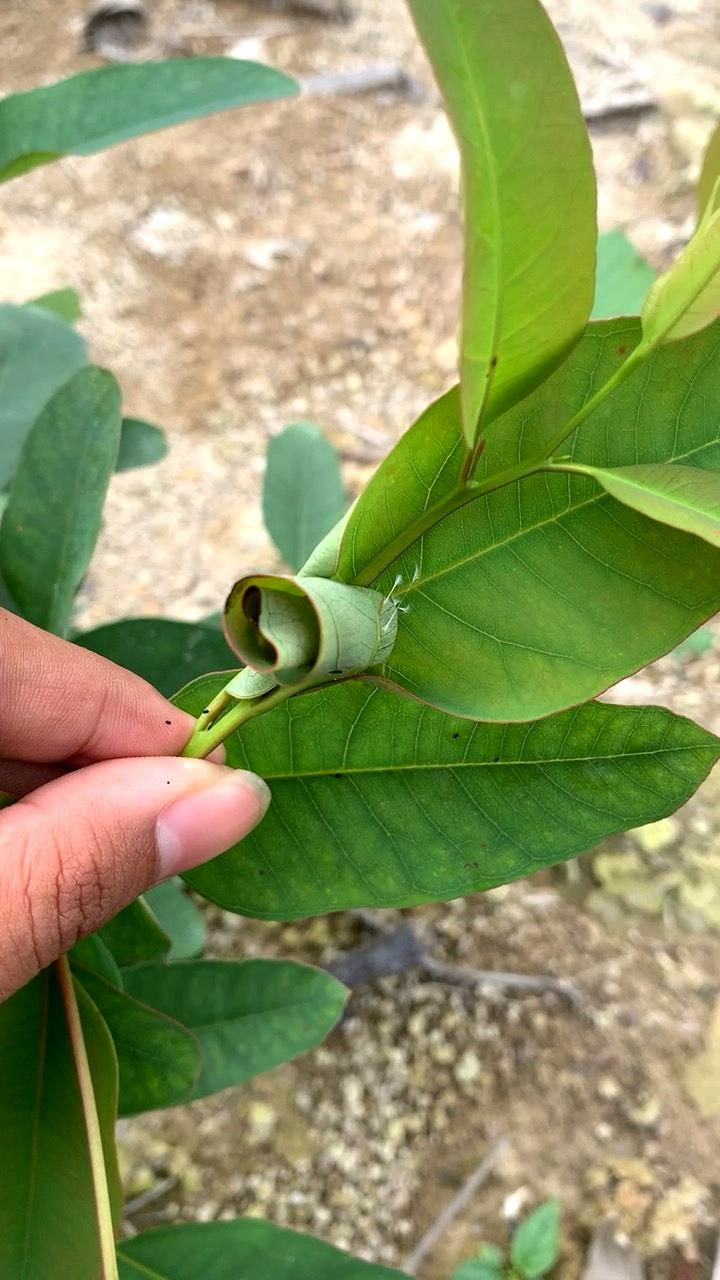Leaf Roller - Leaf: (188, 533, 435, 738)
